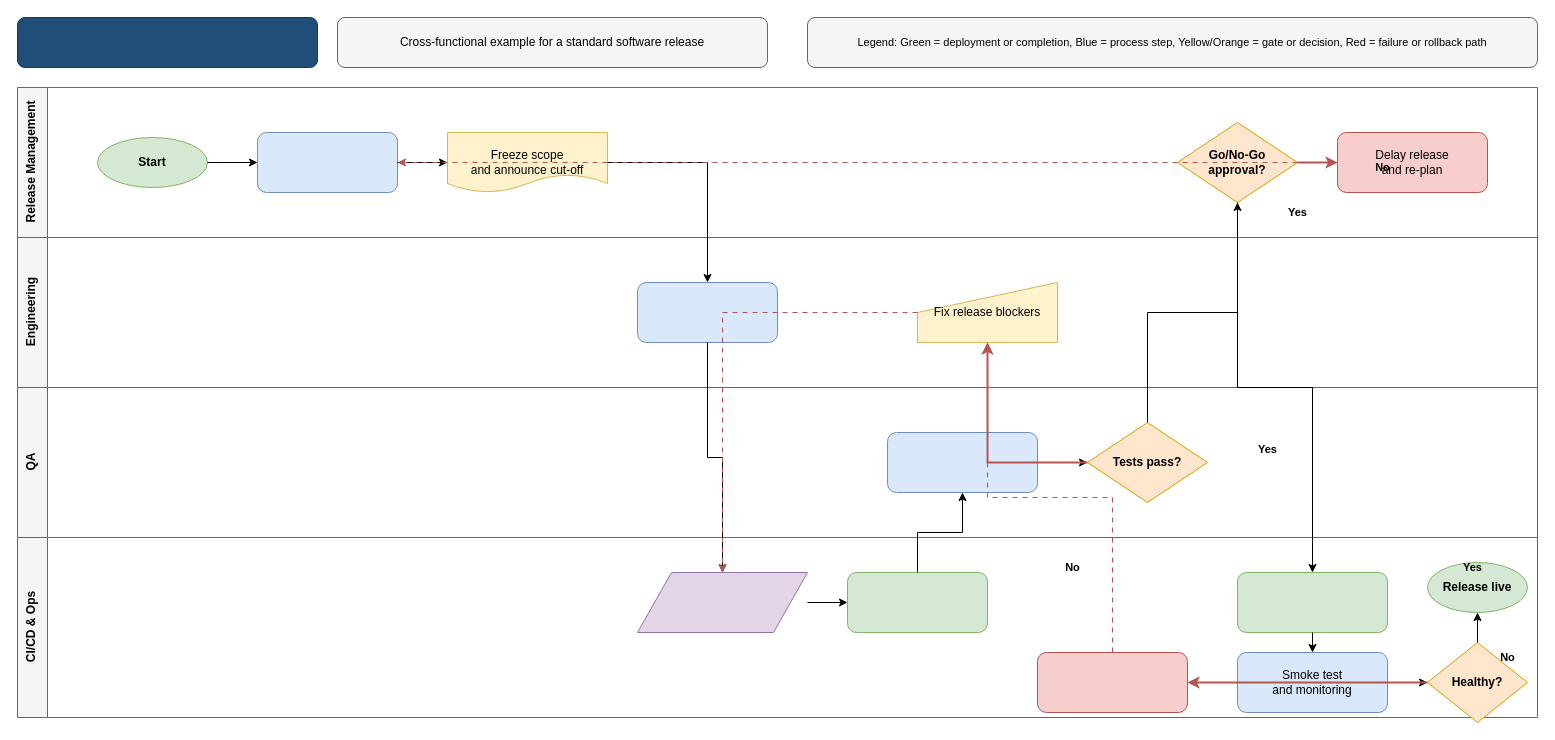
This 1555x740 diagram has some shape labels left out. Each missing label, with the centre of its shape:
Build, unit tests and package artifacts: the point at 722,602
Deploy to production: the point at 1312,602
Deploy to staging: the point at 917,602
Merge to release branch: the point at 707,312
Plan release scope: the point at 327,162
Regression test in staging: the point at 962,462
Rollback release: the point at 1112,682
Sample Release Flow: the point at 167,42
